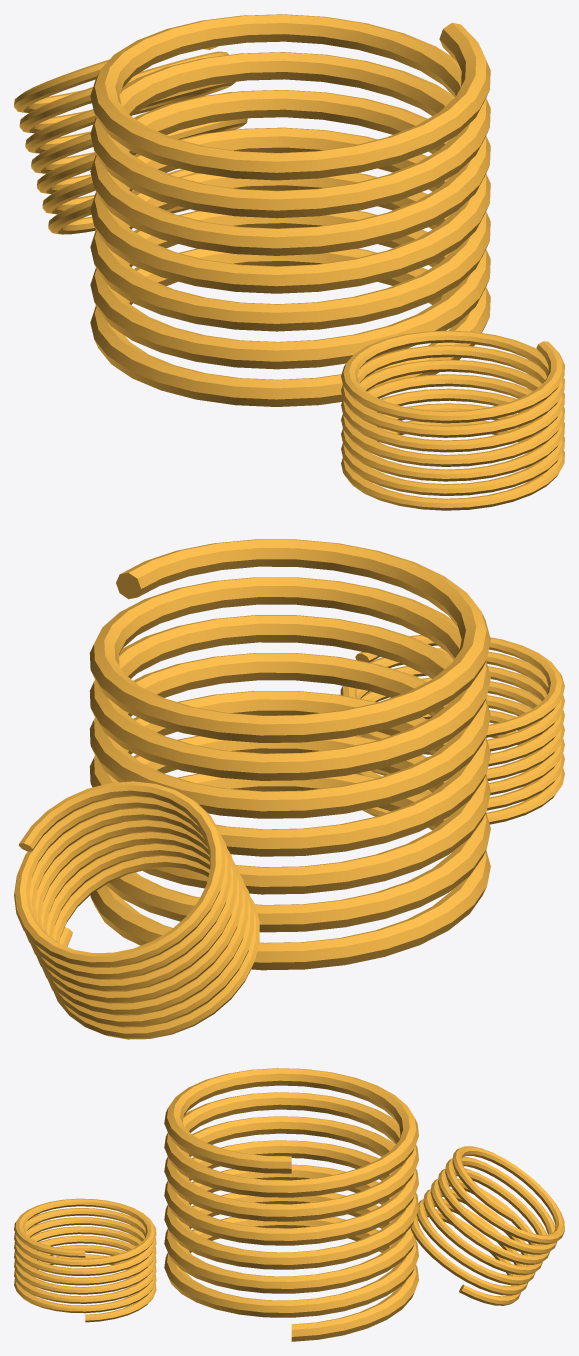
The model's file is Giniling.glb.
The picture shows the model from 3 angles, top to bottom: view 1: azimuth 30°, elevation 25°; view 2: azimuth 150°, elevation 25°; view 3: azimuth 270°, elevation 25°; orthographic projection. The views are drawn at different scales.
Visible parts, largest first — view 1: pHelix5.002; view 2: pHelix5.002; view 3: pHelix5.002.
Part boxes in pixels (left/top/right/bottom): pHelix5.002: left=14, top=14, right=564, bottom=510; pHelix5.002: left=14, top=539, right=564, bottom=1039; pHelix5.002: left=14, top=1068, right=564, bottom=1341.
Bounding box in the file's own units: 0.8007 × 0.6506 × 1.73.
